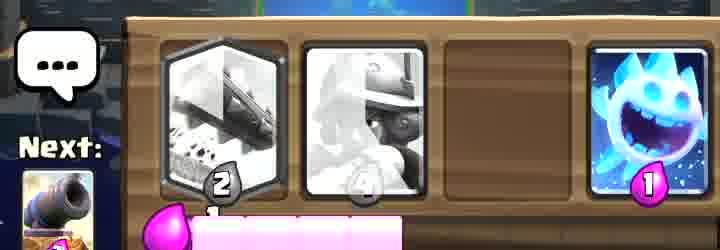cannon: (21, 171, 94, 250)
ice-spirit: (595, 45, 710, 199)
